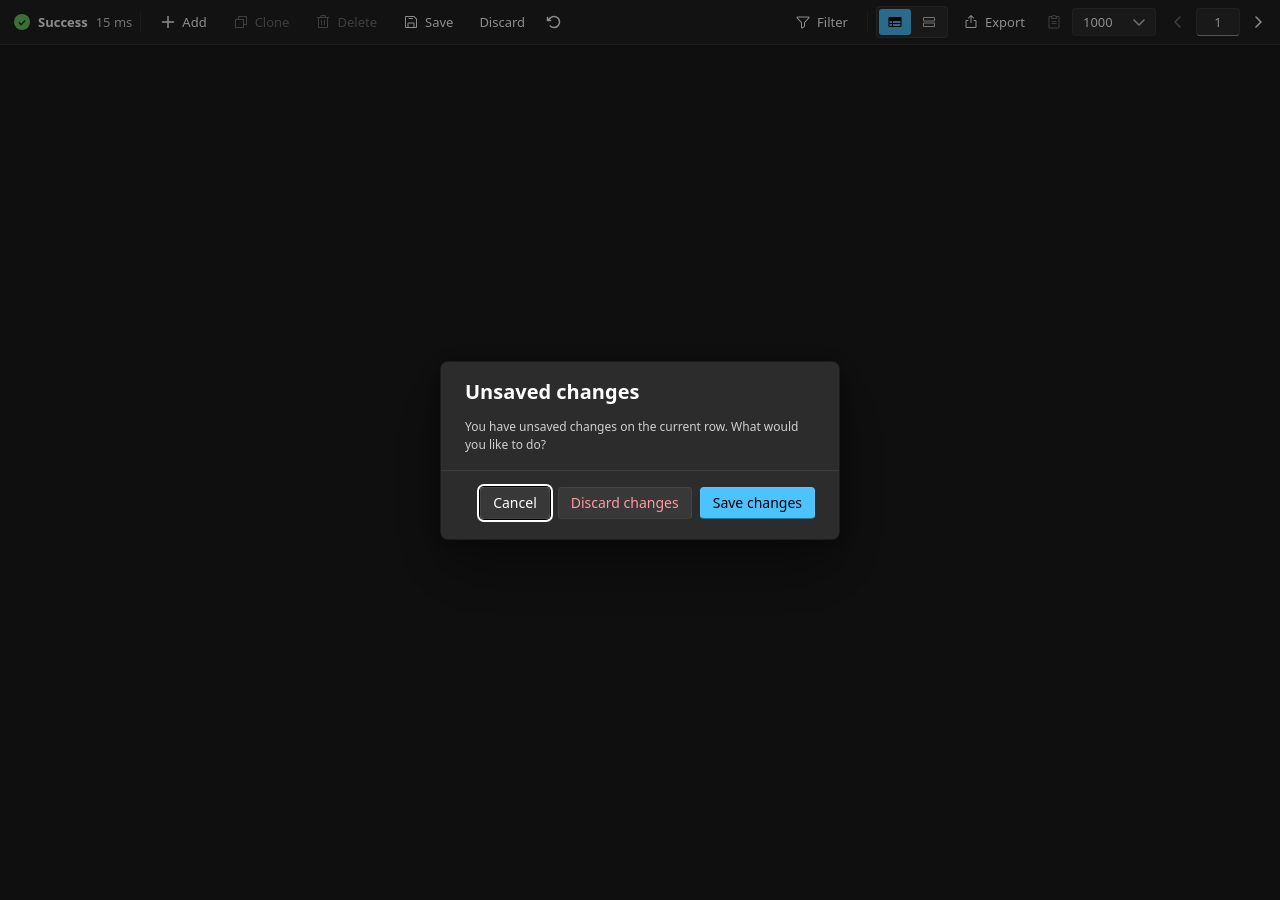
Test: TableDataTab › handleCancelNavigation closes unsaved dialog
# Click cancel
Click the button with test id "btn-cancel-changes": coordinates (515, 502) [480,486,550,518]
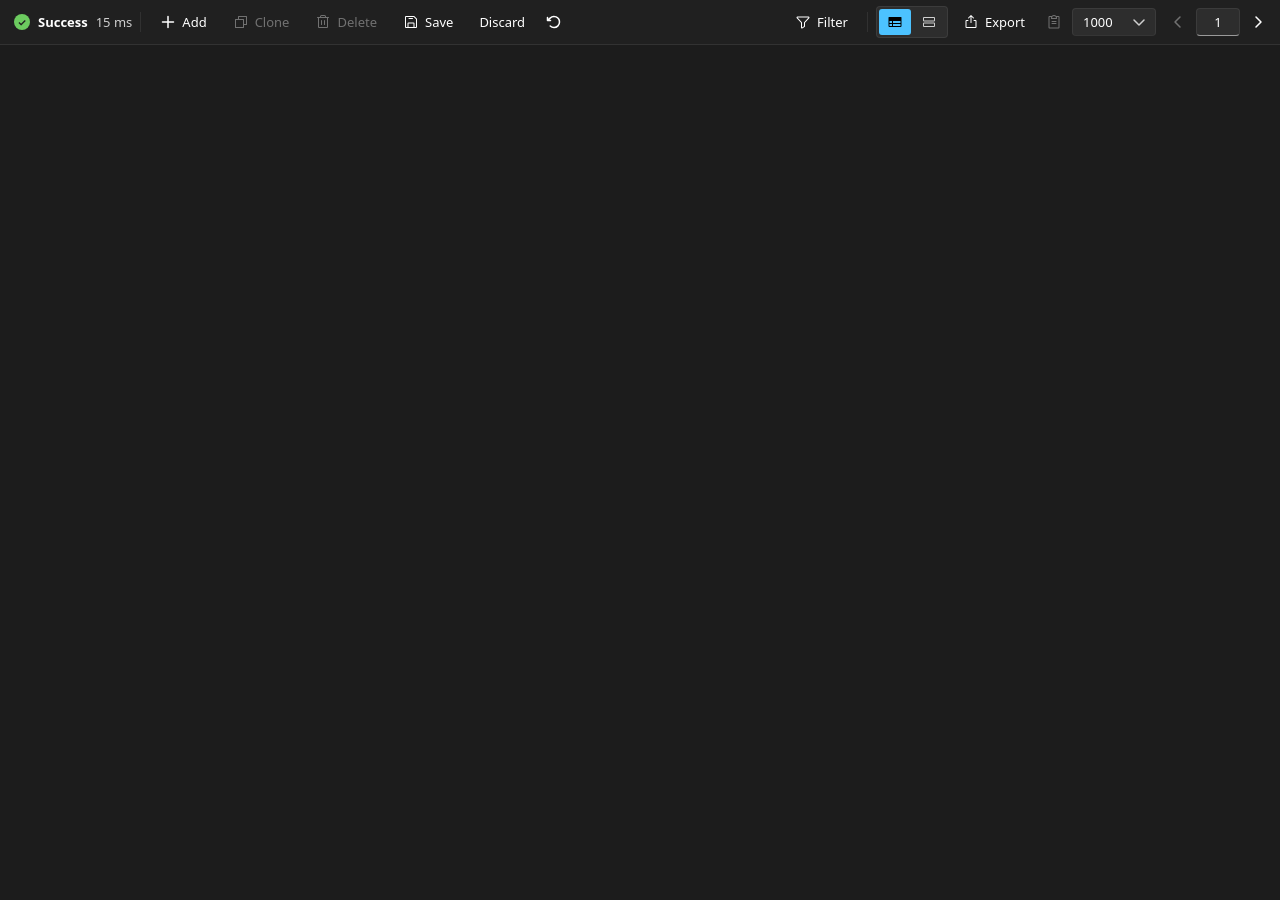
Result: the dialog with test id "unsaved-changes-dialog" is gone
